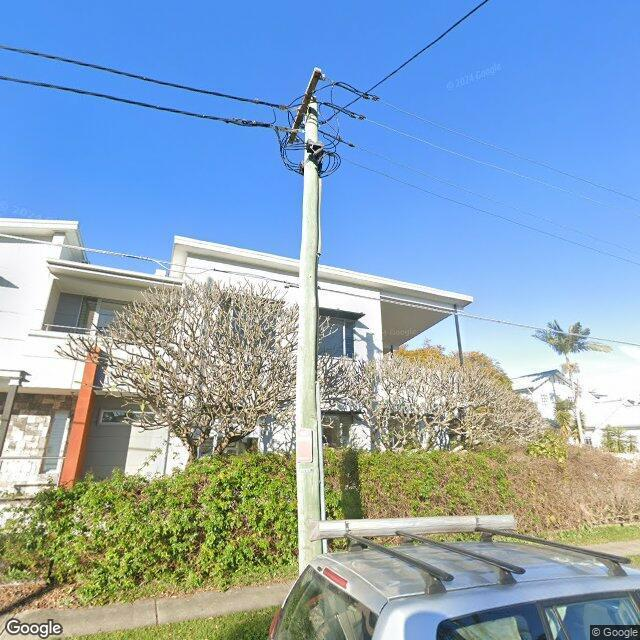crossarm: (285, 67, 322, 145)
timber-pole: (295, 99, 326, 575)
